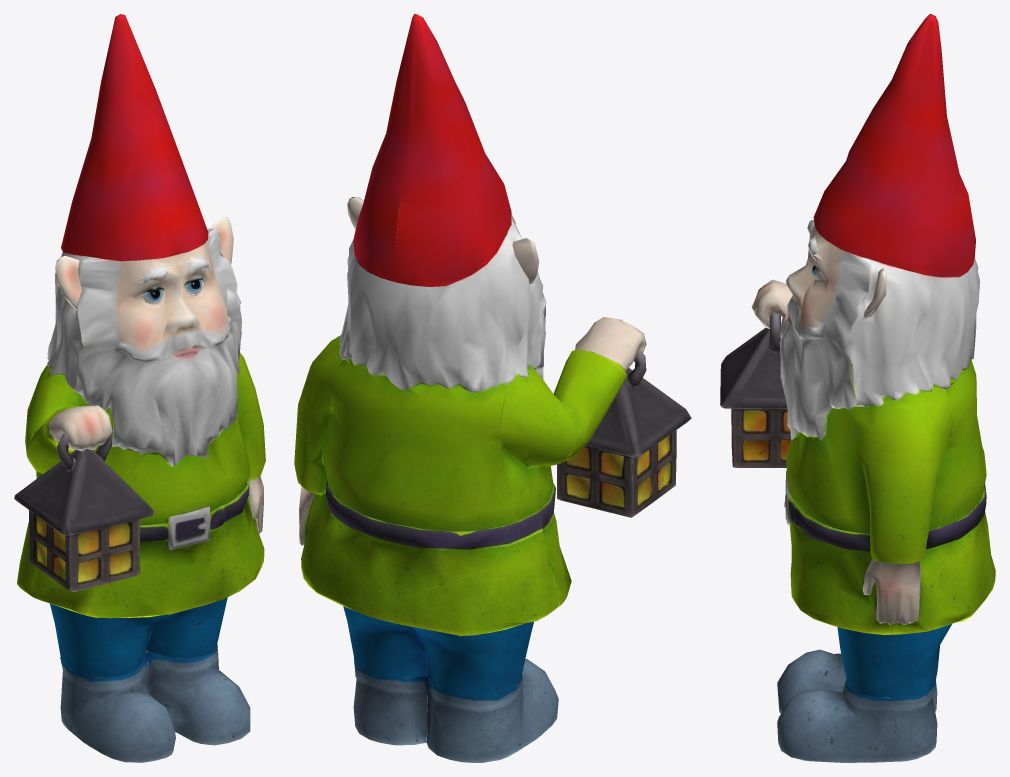
The picture shows the model from 3 angles, left to right: view 1: azimuth 30°, elevation 25°; view 2: azimuth 150°, elevation 25°; view 3: azimuth 270°, elevation 25°; orthographic projection. The views are drawn at different scales.
Visible parts, largest first — view 1: garden_gnome; view 2: garden_gnome; view 3: garden_gnome.
Part boxes in pixels (x1,y1,x2,y2): garden_gnome: (14, 14, 265, 762); garden_gnome: (294, 14, 691, 762); garden_gnome: (720, 14, 995, 762).
Size of the model in its own units: 0.2576 by 0.5994 by 0.2102.
1 material, 1 textured.
